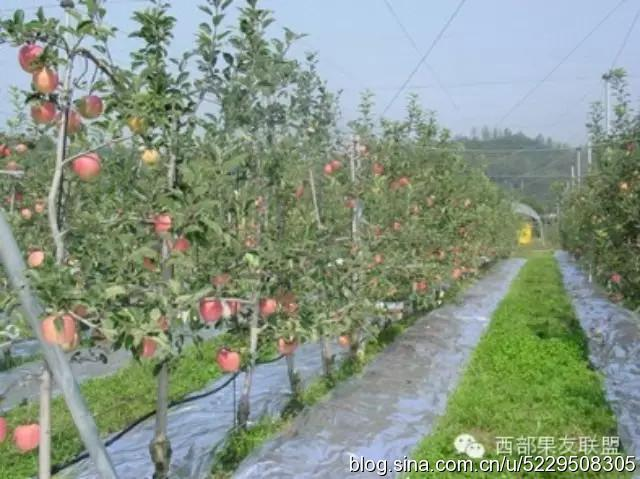apple: (42, 314, 77, 345), (73, 154, 102, 181), (34, 67, 58, 93), (81, 94, 103, 118)
